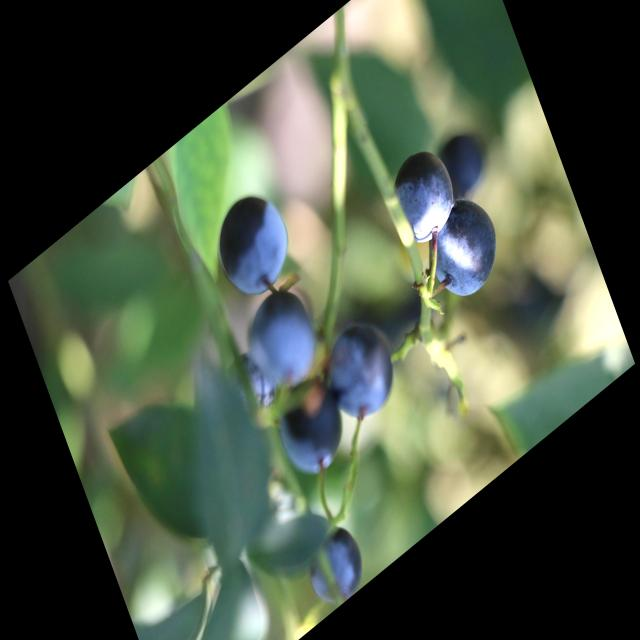blueberry: (204, 170, 305, 320), (239, 268, 337, 413), (317, 304, 407, 444), (419, 185, 510, 322), (269, 367, 354, 493), (385, 135, 465, 257), (210, 331, 286, 446), (300, 508, 374, 618), (436, 123, 493, 215)
